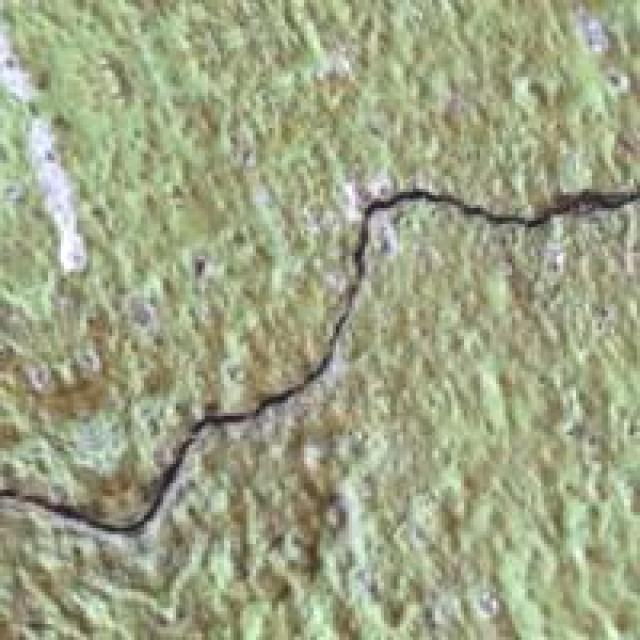SurfaceCrack: (0, 166, 640, 550)
